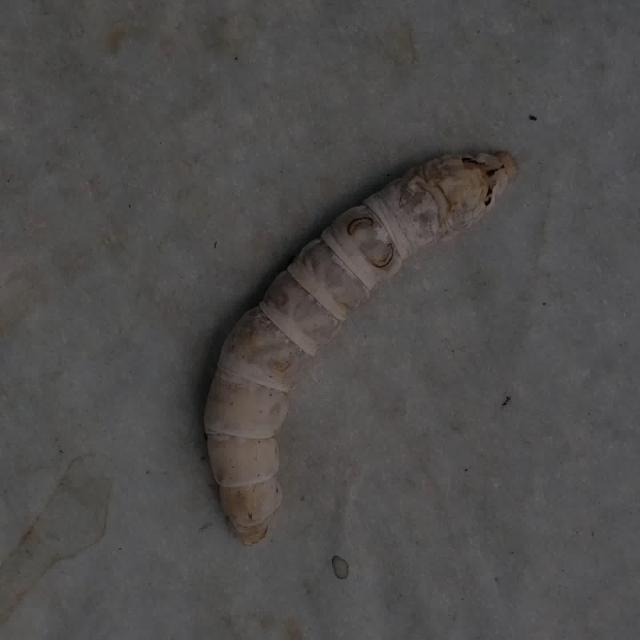Grasserie: (165, 118, 524, 561)
